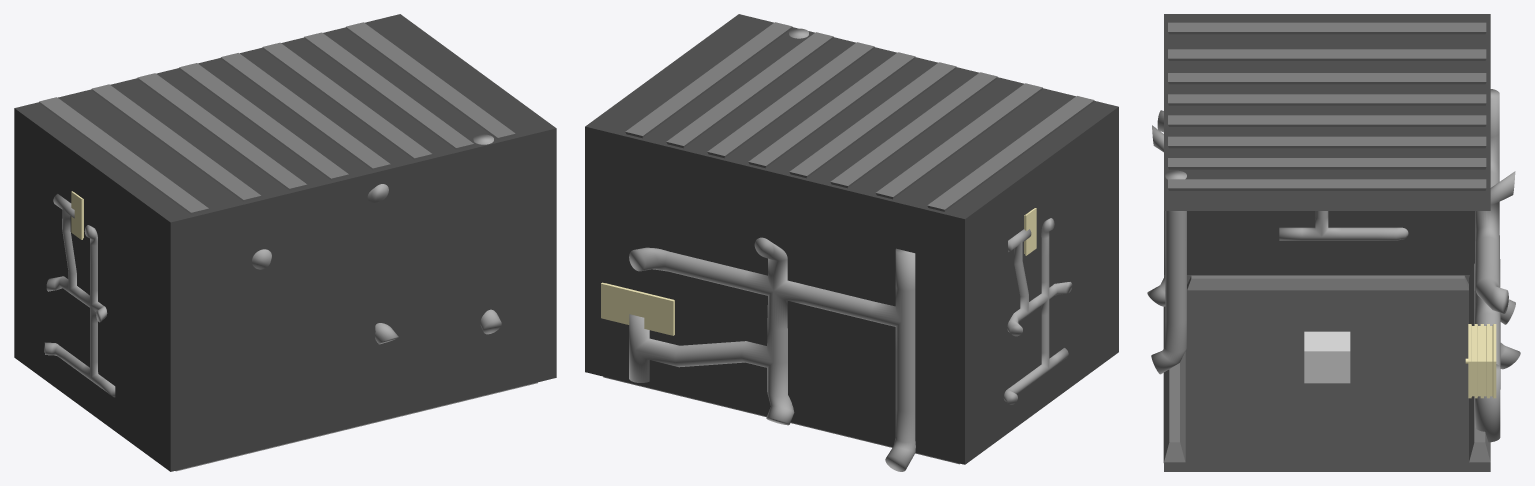
Rendered from Location.fbx.
The picture shows the model from 3 angles, left to right: view 1: azimuth 30°, elevation 25°; view 2: azimuth 150°, elevation 25°; view 3: azimuth 270°, elevation 25°; orthographic projection. The views are drawn at different scales.
Parts seen in each view (by area): view 1: Cube.001, Tee Joint.002, Куб.001, Куб.004, Куб.005, Куб.003, Куб.006, Куб.002, Куб, Куб.014, Tee Joint; view 2: Cube.001, Tee Joint.001, Tee Joint.002, Куб.002, Куб.004, Куб.003, Куб.005, Куб.006, Куб.001, Куб.014, Куб, Куб.007; view 3: Cube.001, Tee Joint.001, Tee Joint, Куб.030, Куб.004, Куб.014, Куб, Куб.003, Куб.002, Куб.006, Куб.001, Куб.005 (+4 smaller).
Part boxes in pixels (x1,y1,x2,y2): Cube.001: (14, 14, 556, 471); Tee Joint.002: (44, 194, 115, 397); Куб.001: (137, 73, 307, 190); Куб.004: (262, 42, 432, 160); Куб.005: (304, 32, 473, 150); Куб.003: (221, 53, 390, 170); Куб.006: (346, 22, 515, 139); Куб.002: (179, 63, 348, 180); Куб: (91, 84, 261, 201); Куб.014: (39, 97, 208, 214); Tee Joint: (252, 134, 501, 344); Cube.001: (585, 14, 1118, 464); Tee Joint.001: (629, 237, 915, 471); Tee Joint.002: (1003, 218, 1072, 404); Куб.002: (789, 62, 956, 178); Куб.004: (707, 42, 874, 158); Куб.003: (748, 52, 915, 168); Куб.005: (666, 32, 833, 148); Куб.006: (625, 22, 792, 138); Куб.001: (830, 72, 997, 188); Куб.014: (927, 96, 1094, 211); Куб: (876, 83, 1042, 199); Куб.007: (601, 282, 674, 335); Cube.001: (1164, 14, 1490, 471); Tee Joint.001: (1474, 89, 1520, 442); Tee Joint: (1147, 110, 1186, 374); Куб.030: (1187, 275, 1468, 290); Куб.004: (1168, 136, 1486, 148); Куб.014: (1168, 22, 1486, 34); Куб: (1168, 49, 1486, 60); Куб.003: (1168, 115, 1486, 126); Куб.002: (1168, 94, 1486, 105); Куб.006: (1168, 179, 1486, 190); Куб.001: (1168, 73, 1486, 84); Куб.005: (1168, 158, 1486, 169).
Bounding box in the file's own units: 2091 × 1345 × 1617.
